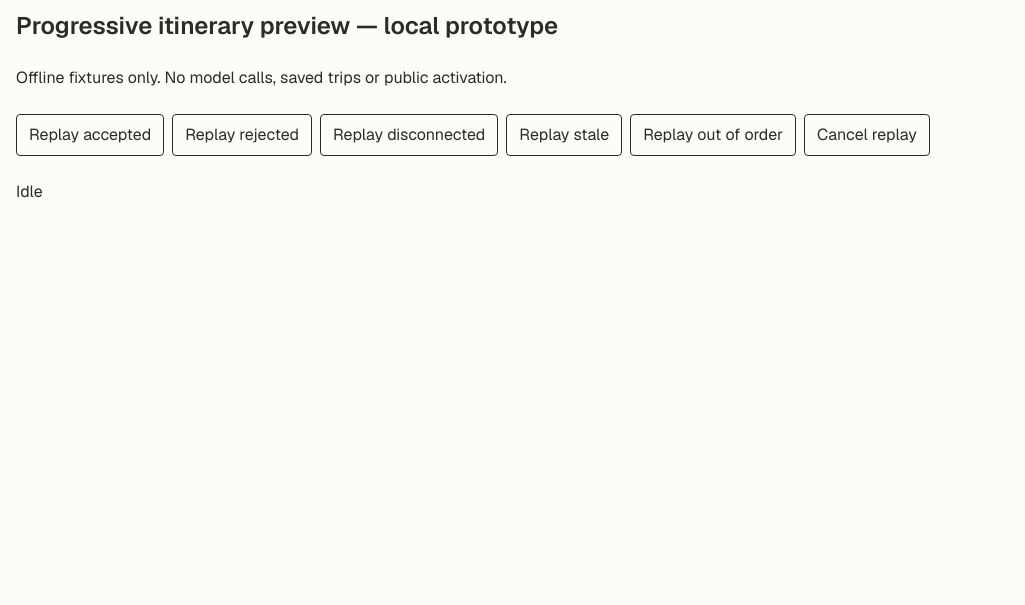
cancellation withdraws immediately and late queued completion cannot restore the preview
This screenshot has width=1025, height=605.
Click the button "Replay accepted": {"x": 90, "y": 135} [16, 114, 164, 156]
Wait 1400 ms
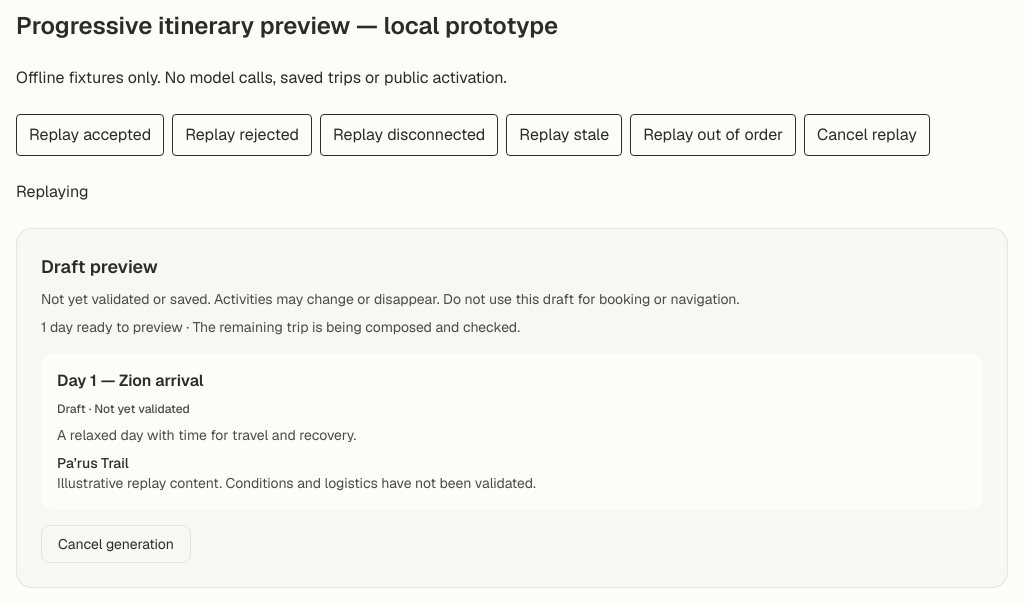
Click the button "Cancel generation": {"x": 116, "y": 544} [41, 525, 191, 563]
Wait 6000 ms
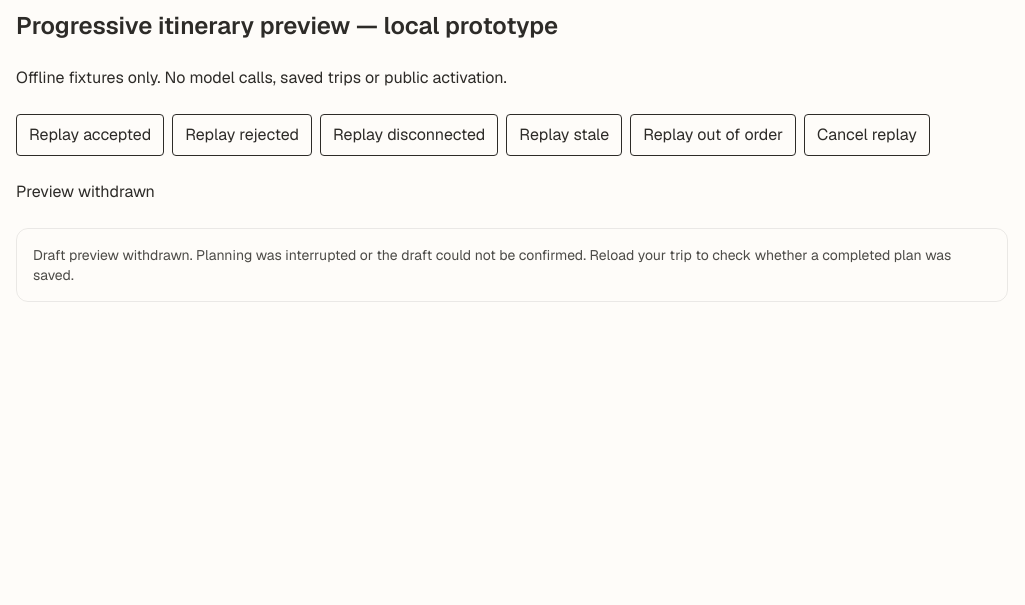
expect the text "Draft preview withdrawn" is shown: met, box [33, 246, 951, 284]
